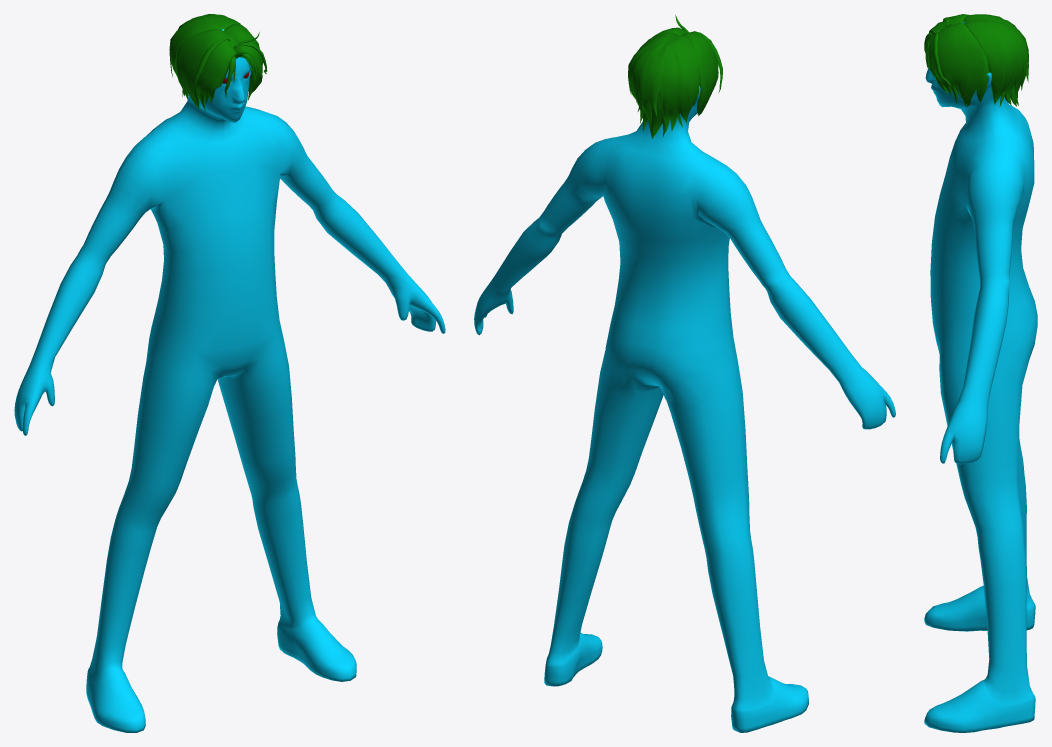
Rendered from JefeItalianos1.fbx.
3 renders of one model, left to right at view 1: azimuth 30°, elevation 25°; view 2: azimuth 150°, elevation 25°; view 3: azimuth 270°, elevation 25°, orthographic. The views are drawn at different scales.
Visible parts, largest first — view 1: Cube; view 2: Cube; view 3: Cube.
Part boxes in pixels (left/top/right/bottom): Cube: left=14, top=14, right=445, bottom=732; Cube: left=474, top=15, right=895, bottom=732; Cube: left=924, top=14, right=1037, bottom=732.
Bounding box in the file's own units: 1.21 × 1.83 × 0.2867.
